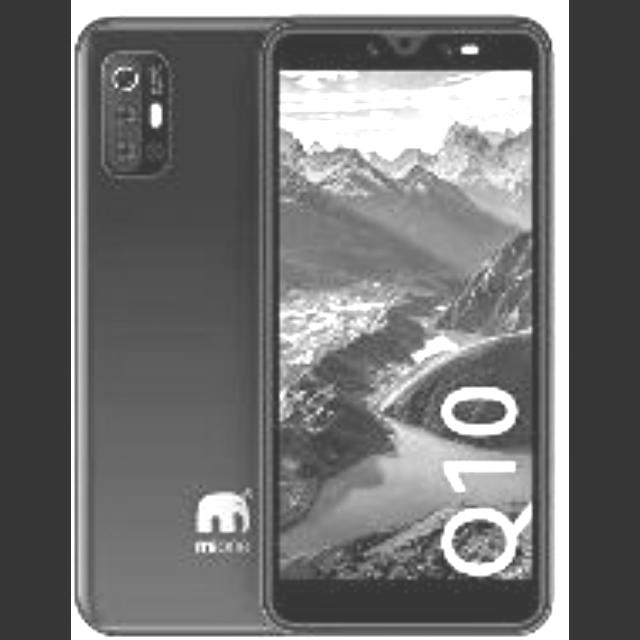fake: (260, 24, 553, 632)
